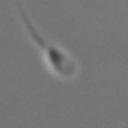normal: (12, 1, 50, 50)
